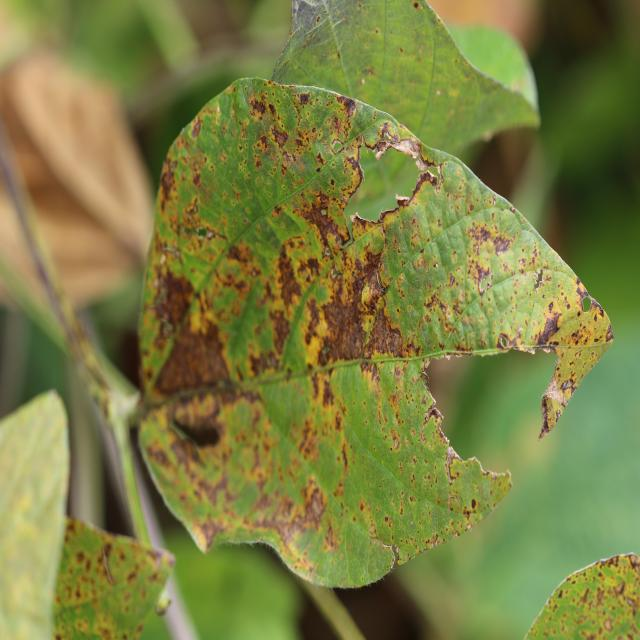Bacterial_Blight: (172, 133, 241, 235), (378, 364, 439, 464), (164, 389, 234, 453), (155, 249, 202, 331), (318, 264, 357, 354), (58, 536, 106, 608), (364, 295, 406, 358), (275, 253, 306, 317), (288, 109, 328, 156), (227, 479, 262, 519), (486, 468, 514, 511), (348, 209, 386, 240), (408, 169, 440, 198), (302, 484, 325, 522), (538, 311, 563, 344), (574, 279, 595, 313), (496, 330, 528, 351), (343, 154, 363, 185), (474, 266, 492, 298), (492, 234, 515, 256), (414, 153, 437, 173), (368, 137, 392, 156), (445, 341, 477, 355), (271, 127, 289, 149), (250, 96, 267, 119), (377, 266, 388, 292), (623, 597, 637, 617), (541, 396, 553, 419), (388, 429, 400, 450), (560, 378, 575, 394), (533, 269, 544, 290), (595, 587, 606, 606), (613, 579, 625, 596), (579, 587, 590, 605), (632, 554, 640, 576), (605, 325, 614, 342), (604, 618, 614, 632), (76, 551, 85, 564), (369, 523, 378, 536), (54, 632, 64, 640), (324, 247, 331, 258), (471, 498, 477, 509), (466, 522, 473, 531), (557, 589, 563, 599), (413, 2, 420, 10), (321, 209, 328, 217), (360, 77, 366, 85), (316, 15, 321, 24), (435, 90, 442, 96), (453, 531, 459, 538), (399, 46, 404, 54), (434, 262, 439, 269), (493, 198, 497, 206)
Soybean: (140, 79, 613, 584)
